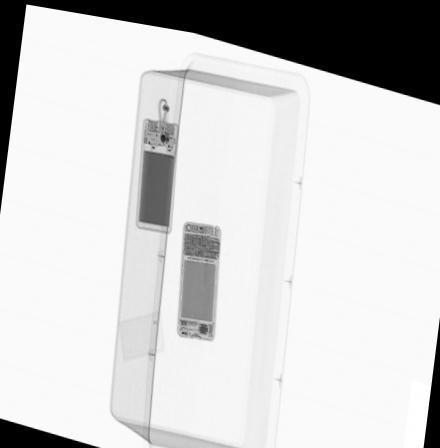Powerbank: (133, 113, 181, 224)
